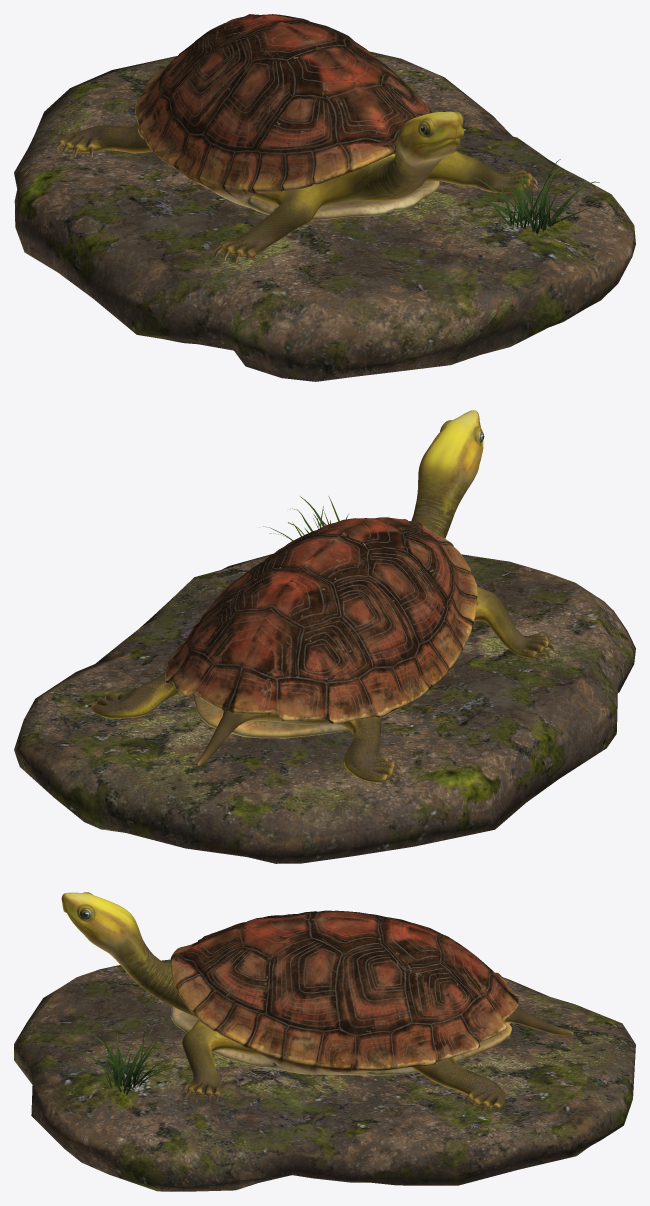
File: tortoise.glb
The picture shows the model from 3 angles, top to bottom: view 1: azimuth 30°, elevation 25°; view 2: azimuth 150°, elevation 25°; view 3: azimuth 270°, elevation 25°; orthographic projection. The views are drawn at different scales.
Parts seen in each view (by area): view 1: stonee_2, zhijia4_6, MSH_grass_74_4; view 2: stonee_2, zhijia4_6; view 3: stonee_2, zhijia4_6, MSH_grass_74_4.
Boxes of the visible parts, x1=… form: stonee_2: x1=14, y1=51, x2=635, y2=381; zhijia4_6: x1=56, y1=14, x2=538, y2=263; MSH_grass_74_4: x1=463, y1=159, x2=599, y2=234; stonee_2: x1=14, y1=553, x2=635, y2=863; zhijia4_6: x1=88, y1=410, x2=555, y2=782; stonee_2: x1=14, y1=959, x2=635, y2=1191; zhijia4_6: x1=61, y1=892, x2=573, y2=1112; MSH_grass_74_4: x1=65, y1=1027, x2=175, y2=1096.
Bounding box in the file's own units: 36.33 × 17.4 × 47.79.
2 materials, 2 textured.
